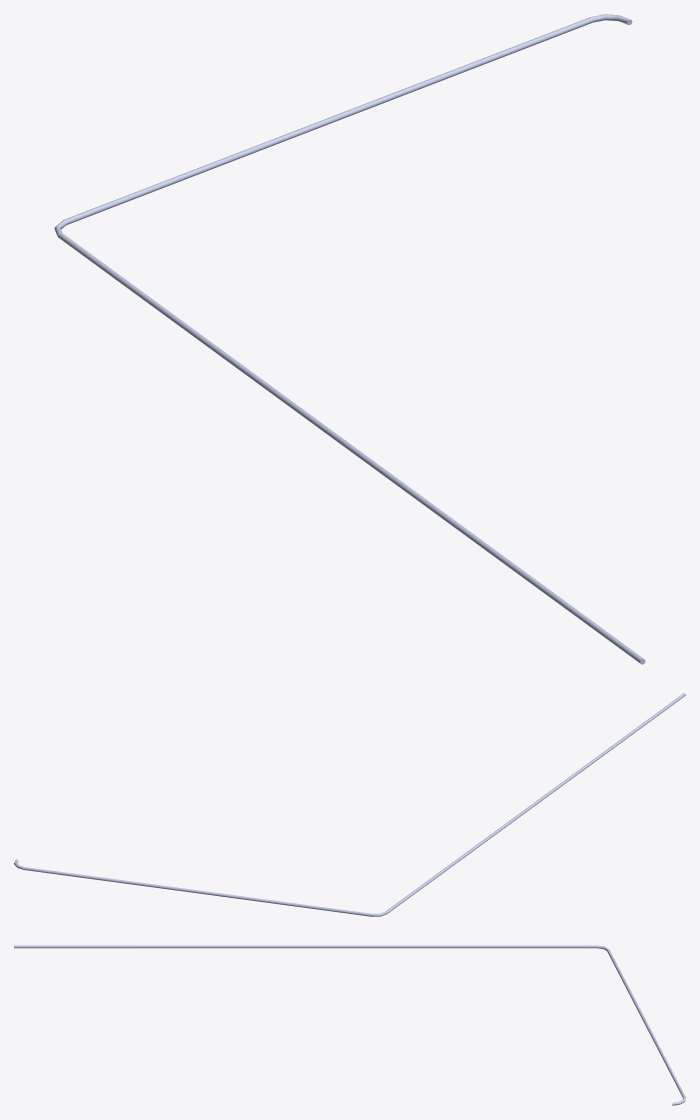
File: day.fbx
The picture shows the model from 3 angles, top to bottom: view 1: azimuth 30°, elevation 25°; view 2: azimuth 150°, elevation 25°; view 3: azimuth 270°, elevation 25°; orthographic projection. The views are drawn at different scales.
Visible parts, largest first — view 1: Sweep1; view 2: Sweep1; view 3: Sweep1.
Part boxes in pixels (<box>): Sweep1: <box>54,14,645,664</box>; Sweep1: <box>14,693,685,916</box>; Sweep1: <box>14,945,685,1105</box>.
Bounding box in the file's own units: 23.89 × 0.1954 × 42.75.
